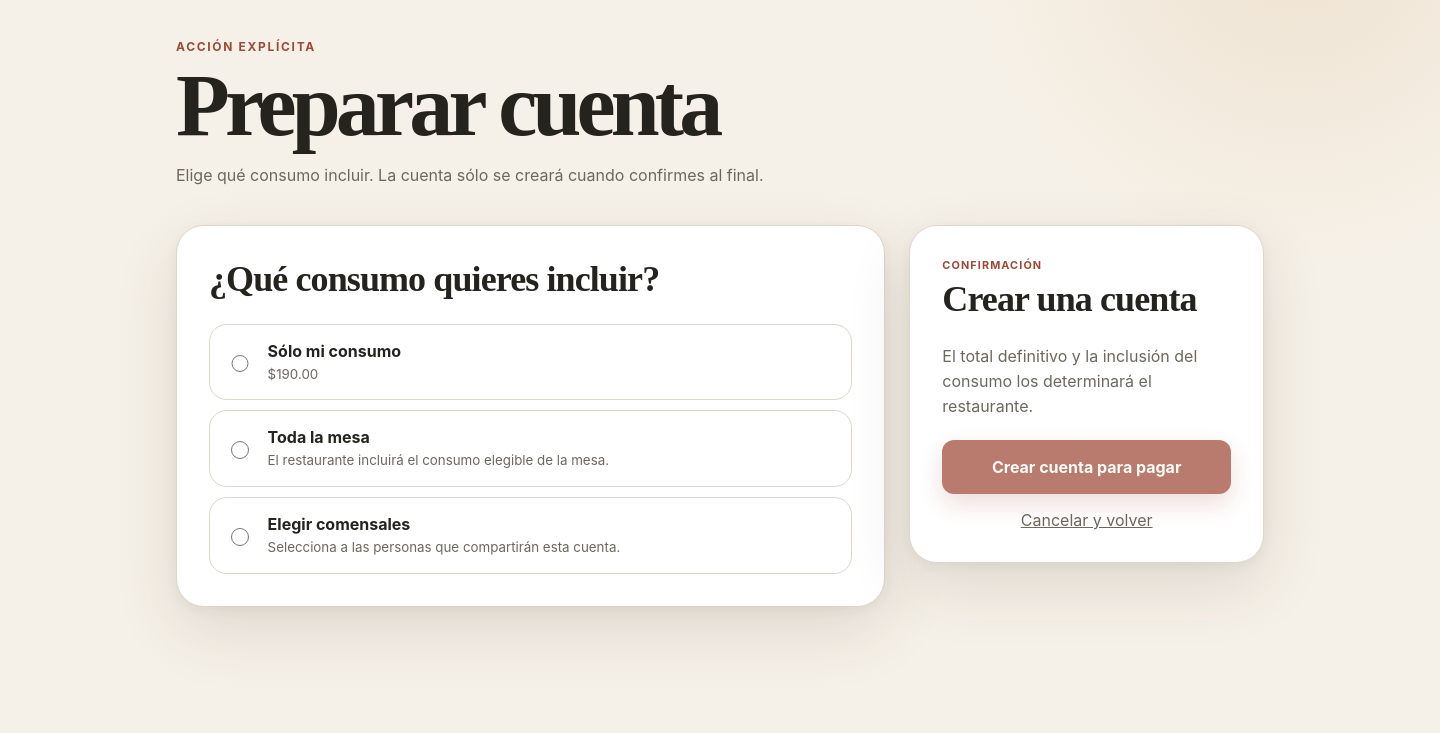
Test case: check creation and review › keeps an ambiguous request safe and reuses its idempotency key on an intentional retry
Click the radio button labelled "Sólo mi consumo $190.00" at (240, 364), box [231,355,249,372]
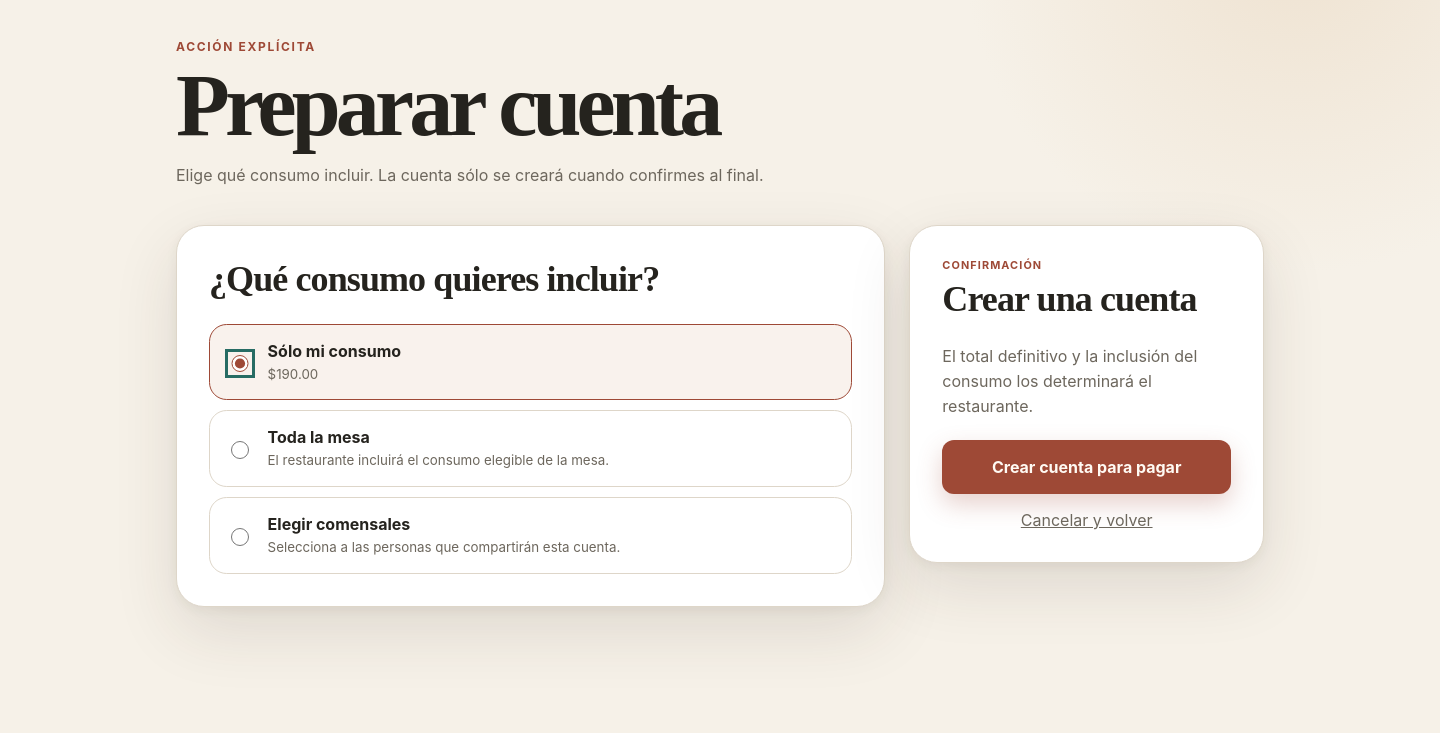
Click the button "Crear cuenta para pagar" at (1087, 467), box [942,440,1231,494]
(page scrolled)
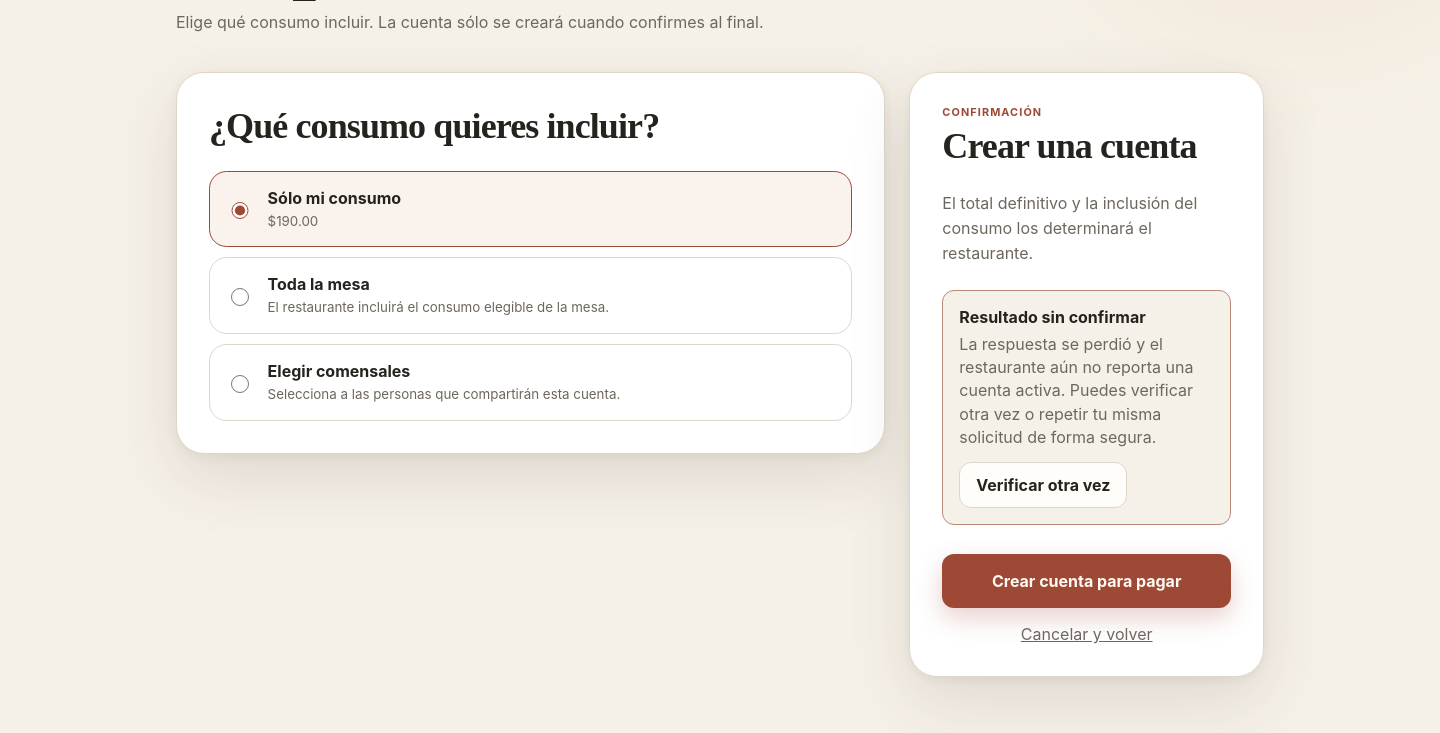
Now the text "Resultado sin confirmar" is shown, box [959,307,1146,327]
Click the button "Crear cuenta para pagar" at (1087, 581), box [942,554,1231,608]
(page scrolled)
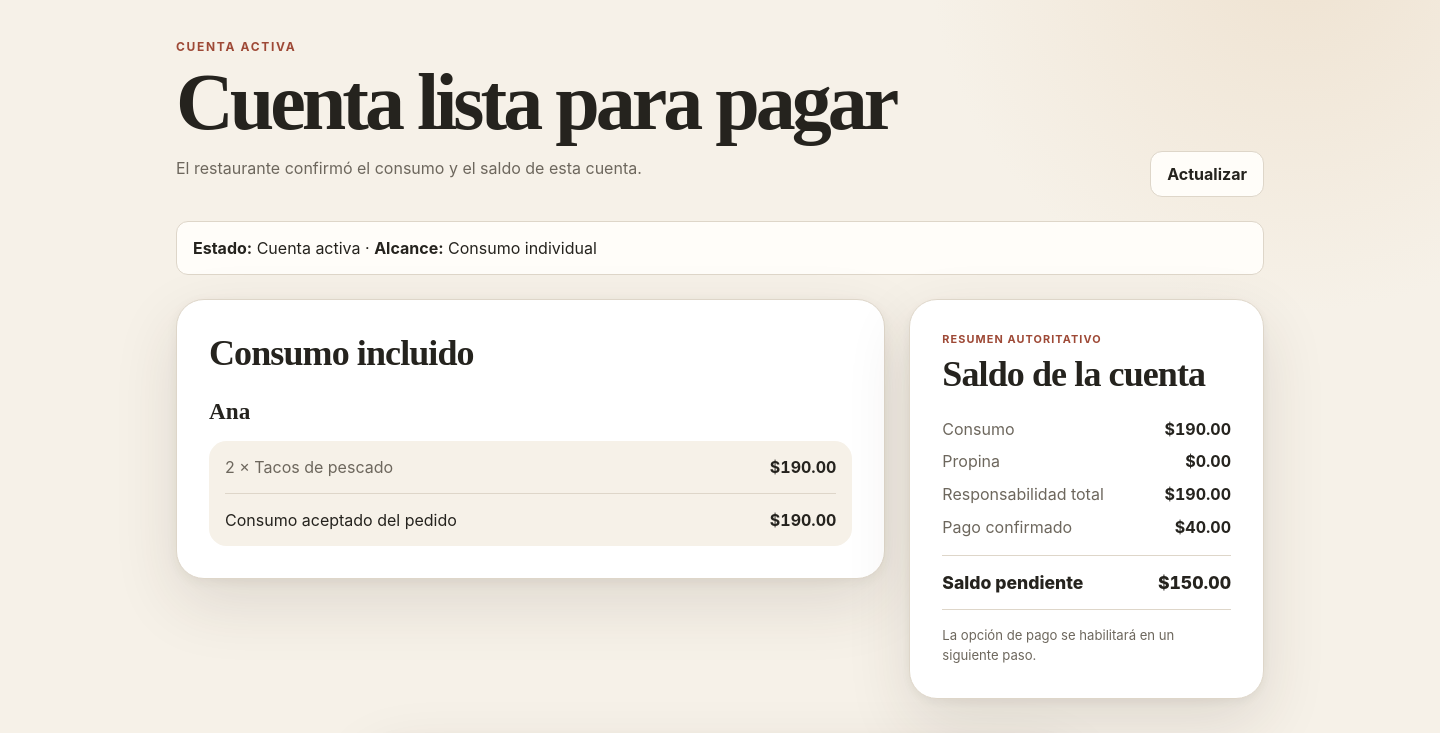
Now the heading "Cuenta lista para pagar" is shown, box [176,64,895,140]
